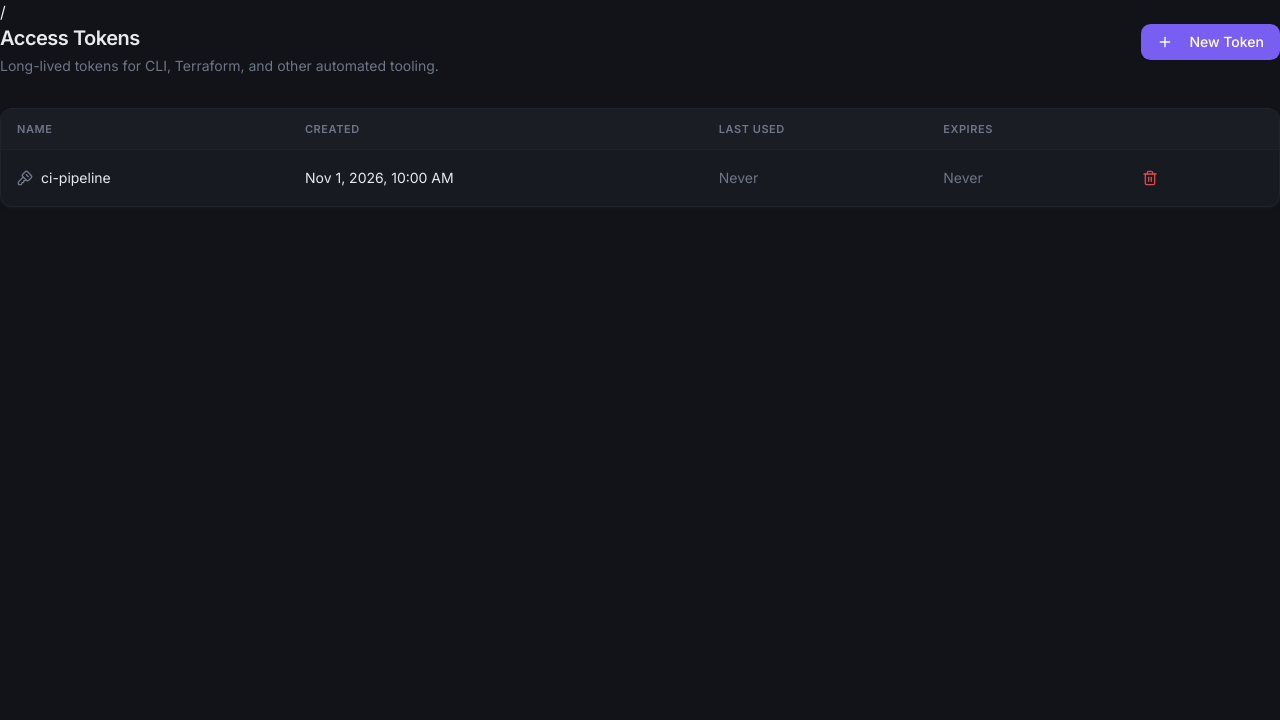
Test: AccessTokensPage › creates a token with the chosen expiry and reveals it exactly once
Expected: the text "ci-pipeline" is shown, [41,168,111,188]
Click the button "New Token". click: (1211, 42)
box: [1141,24,1279,60]
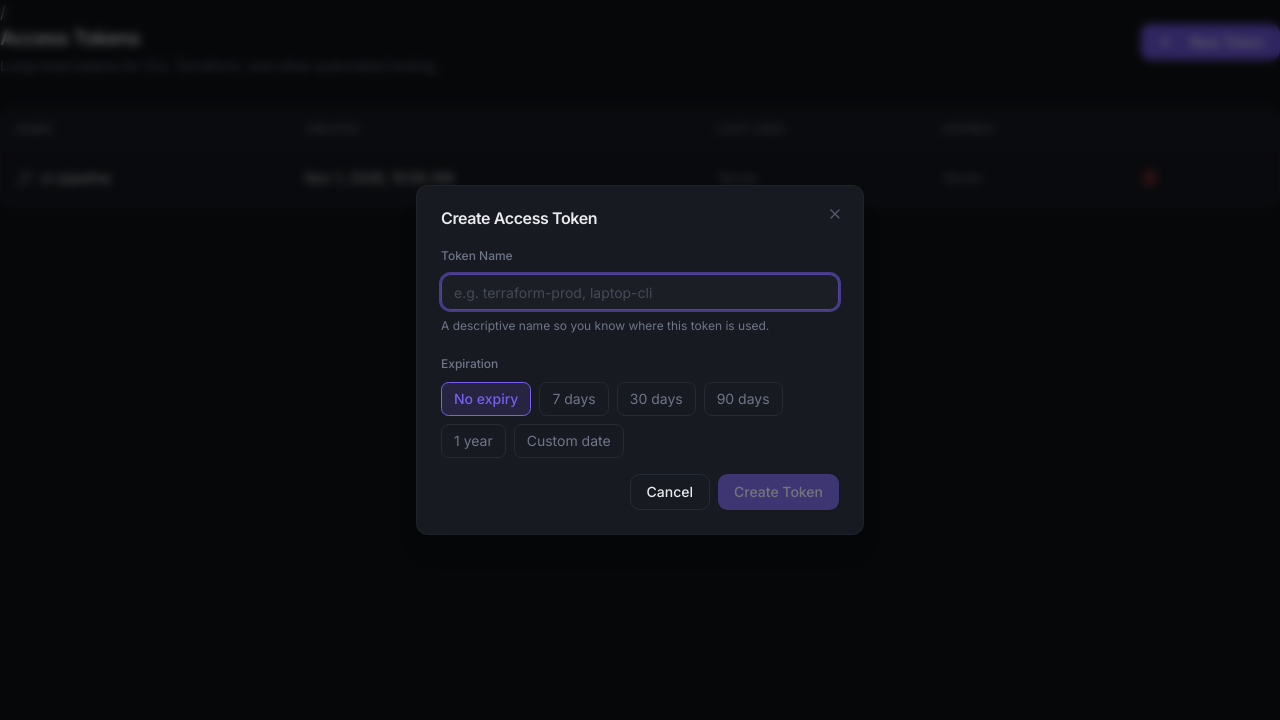
Type "terraform-prod" into the field labelled "Token Name". click: (640, 292)
box: [441,274,839,310]
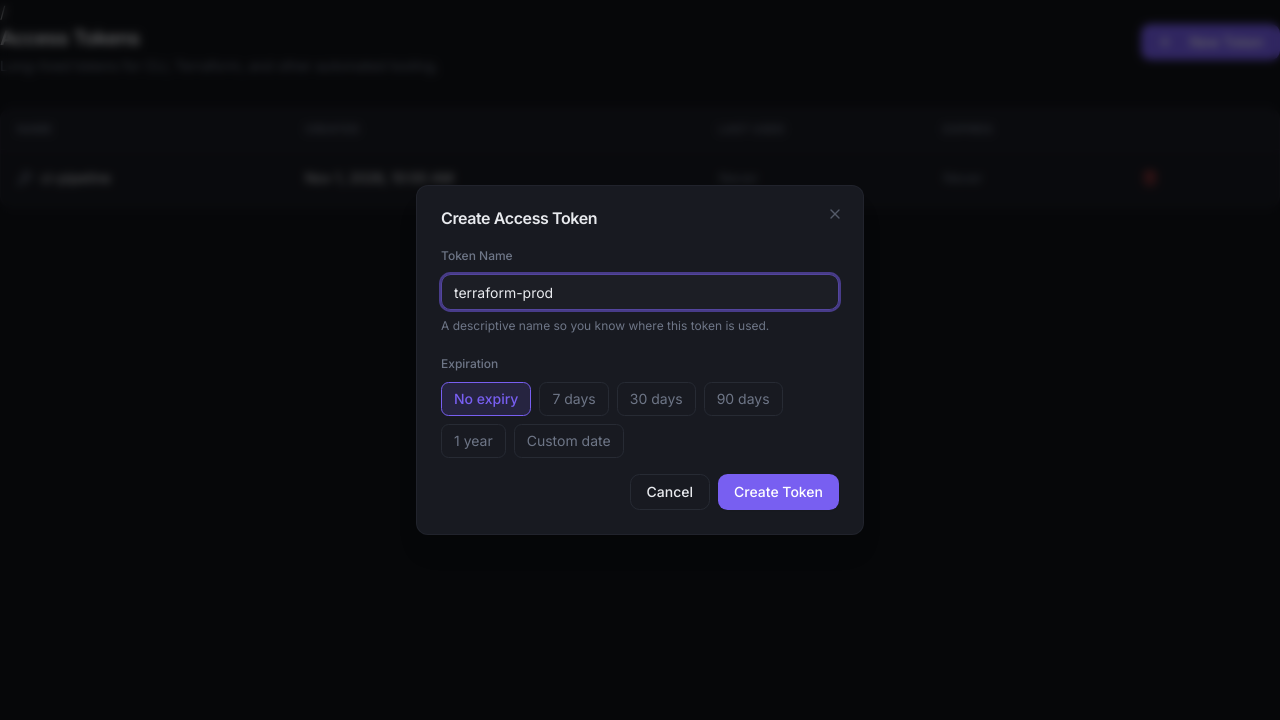
Click the button "30 days". click: (656, 399)
box: [617,382,696,416]
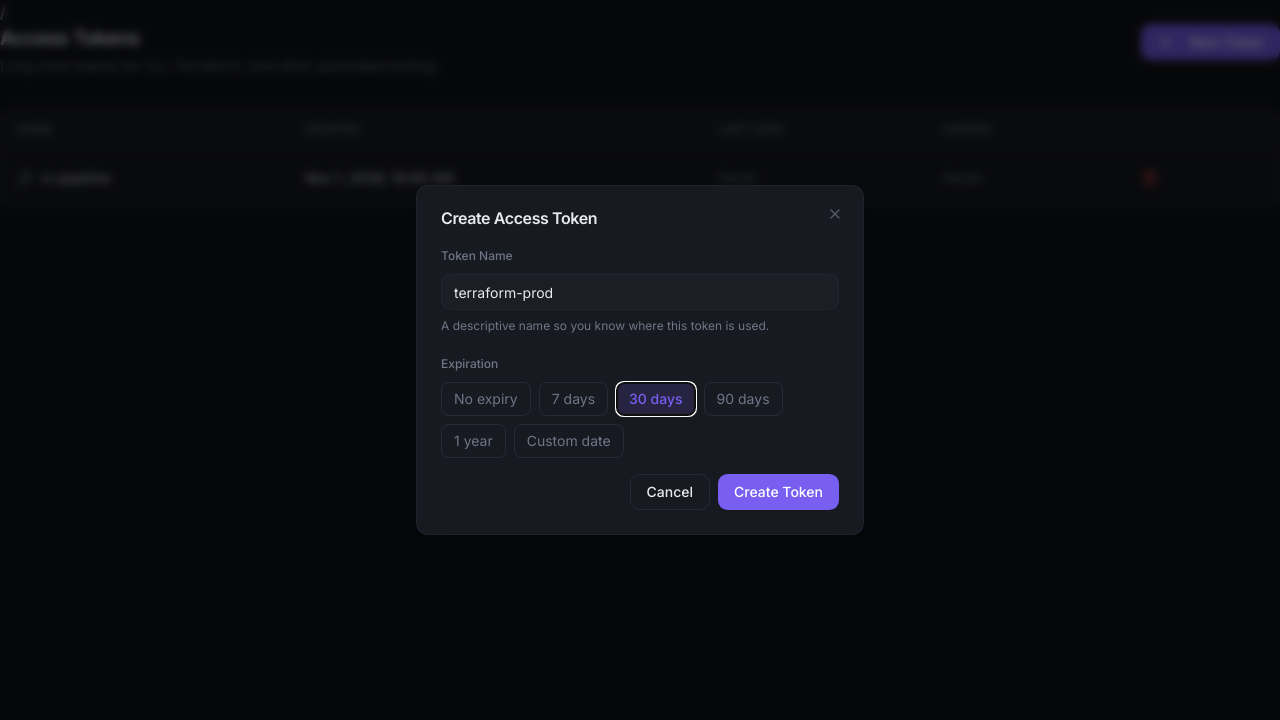
Click the button "Create Token". click: (778, 492)
box: [718,474,839,510]
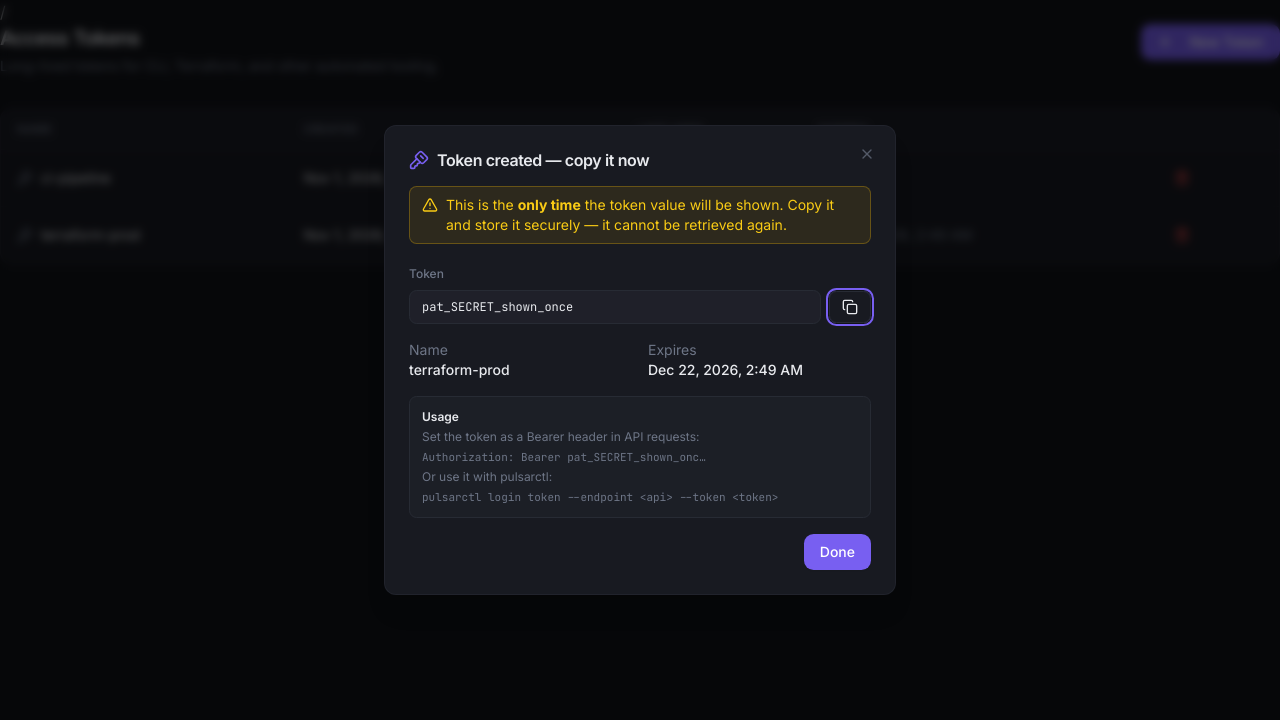
Now the text "pat_SECRET_shown_once" is shown, box [409,290,821,324]
Click the button "Done". click: (837, 552)
box: [804,534,871,570]
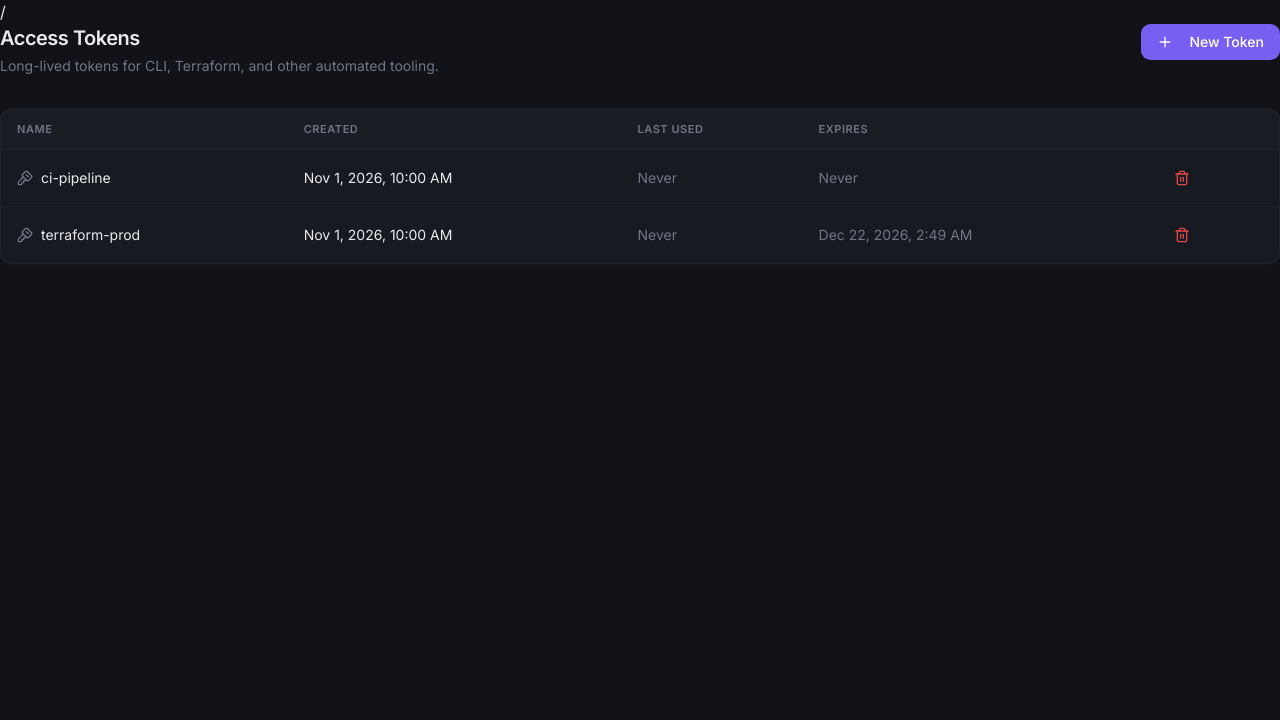
Now the text "terraform-prod" is shown, box [41,224,140,244]
Now the dialog is gone
Now the text "pat_SECRET_shown_once" is gone
